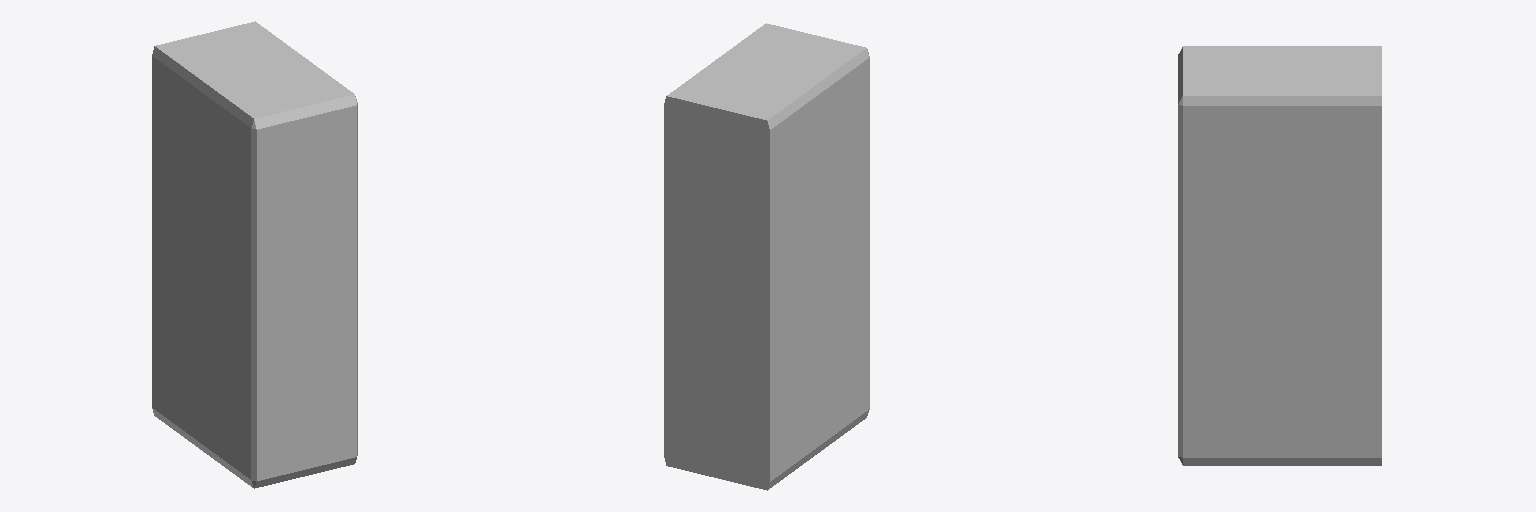
The model's file is blackKey.obj.
3 renders of one model, left to right at view 1: azimuth 30°, elevation 25°; view 2: azimuth 150°, elevation 25°; view 3: azimuth 270°, elevation 25°, orthographic.
Parts seen in each view (by area): view 1: Cube; view 2: Cube; view 3: Cube.
Part boxes in pixels (x1,y1,x2,y2): Cube: (152,21,357,488); Cube: (664,23,869,490); Cube: (1178,46,1381,465).
Bounding box in the file's own units: 1.2 × 4 × 2.